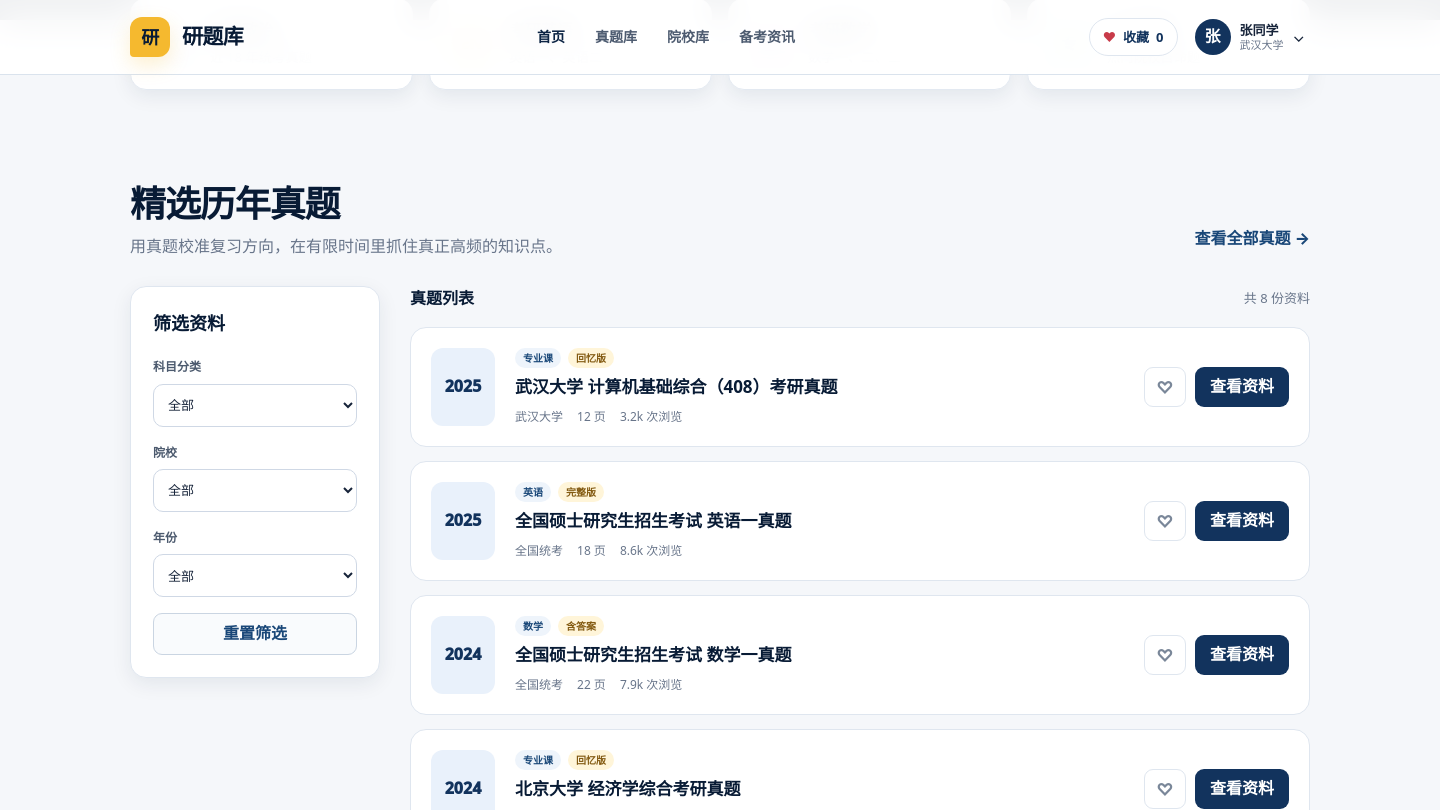
Scenario: PaperExplorer › combines subject and year filters
This screenshot has width=1440, height=810.
(page scrolled)
expect the text "共 8 份资料" is shown: met, box x1=1244 y1=288 x2=1310 y2=309
Step 1. Select "专业课" in the dropdown labelled "科目分类" → (255, 405), box x1=153 y1=384 x2=357 y2=427
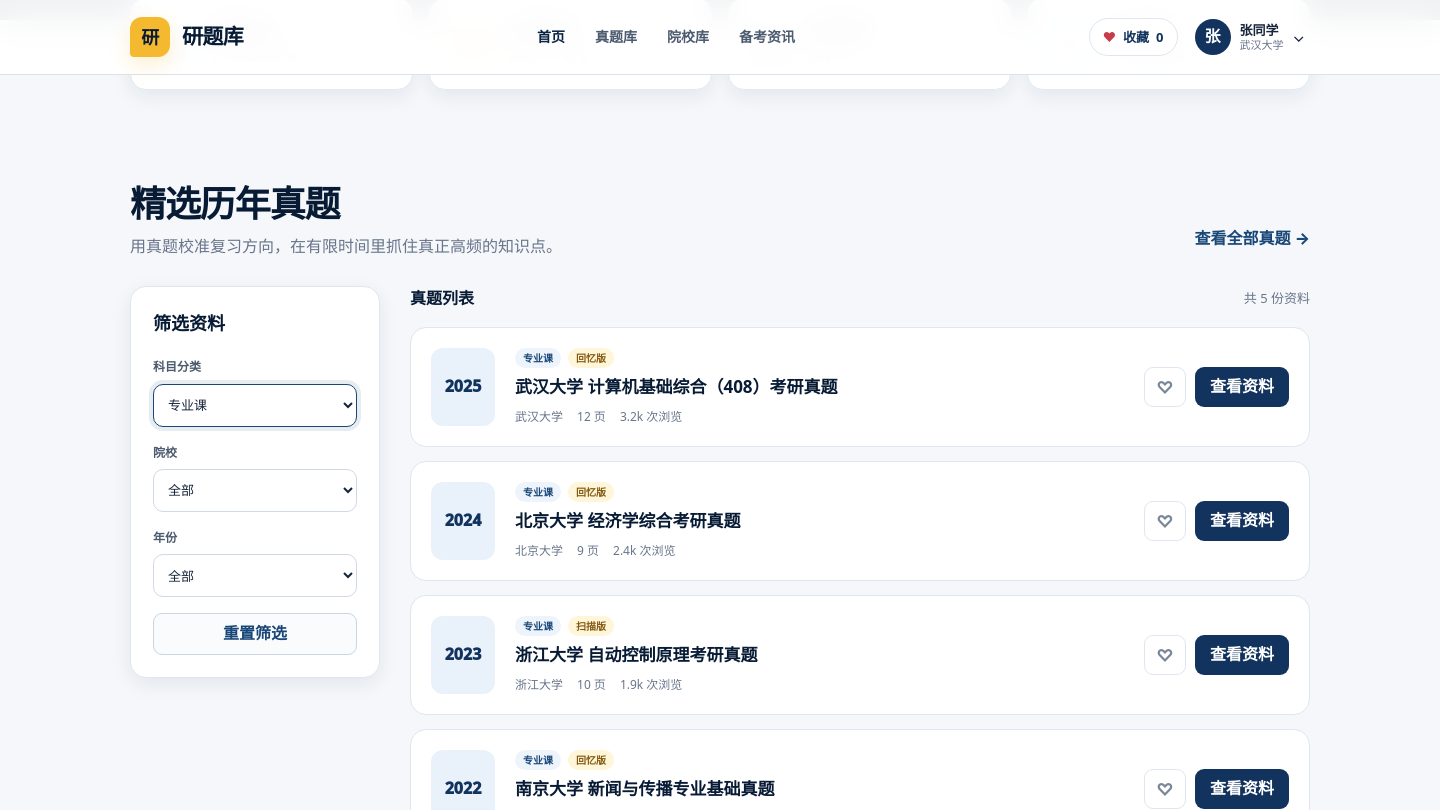
Step 2. Select "2024" in the dropdown labelled "年份" → (255, 576), box x1=153 y1=554 x2=357 y2=597
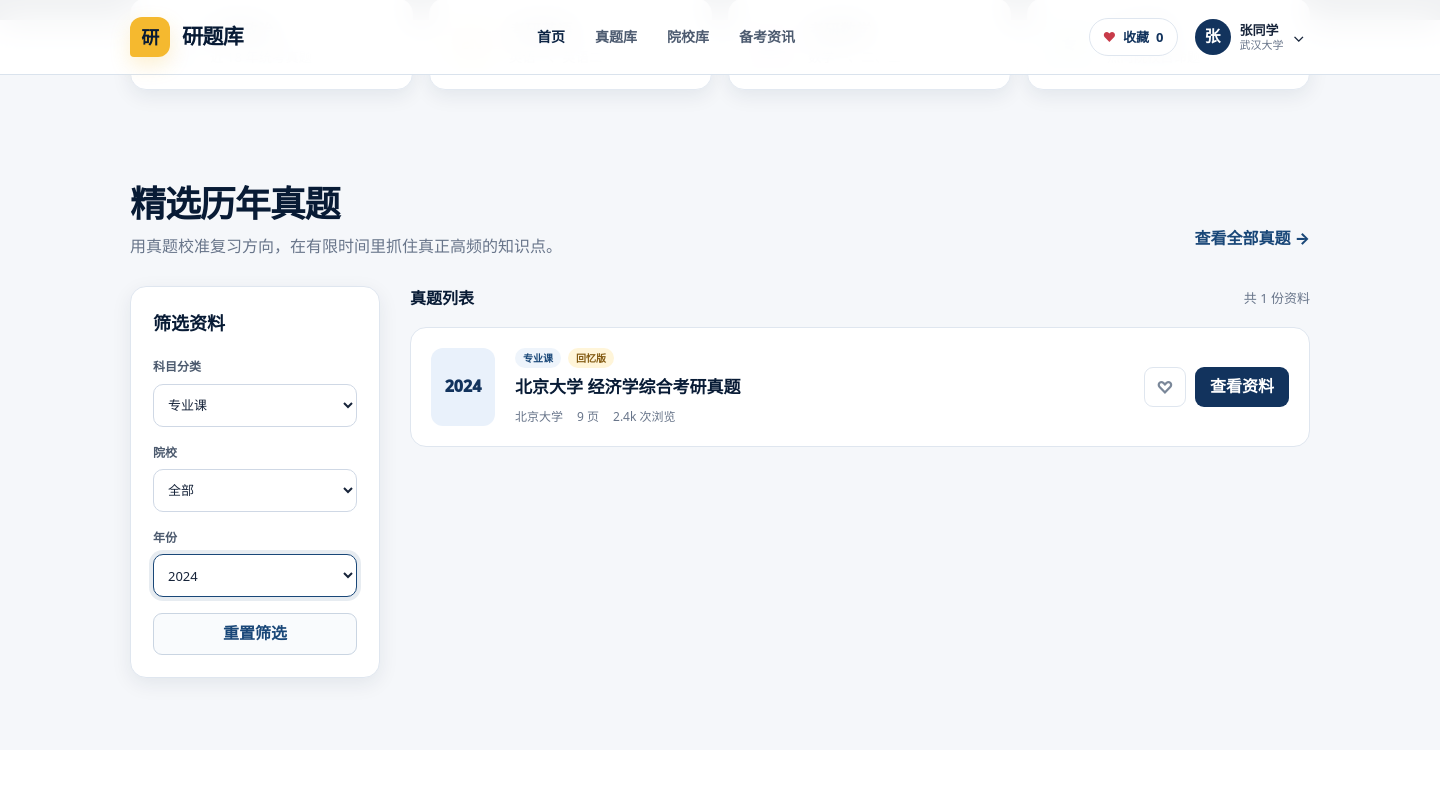
expect the heading "北京大学 经济学综合考研真题" is shown: met, box x1=515 y1=375 x2=740 y2=398
expect the text "共 1 份资料" is shown: met, box x1=1244 y1=288 x2=1310 y2=309
